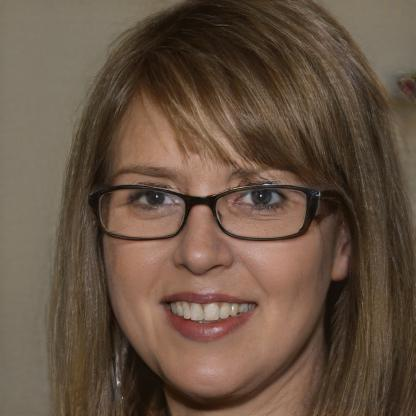glasses: (88, 180, 322, 245)
